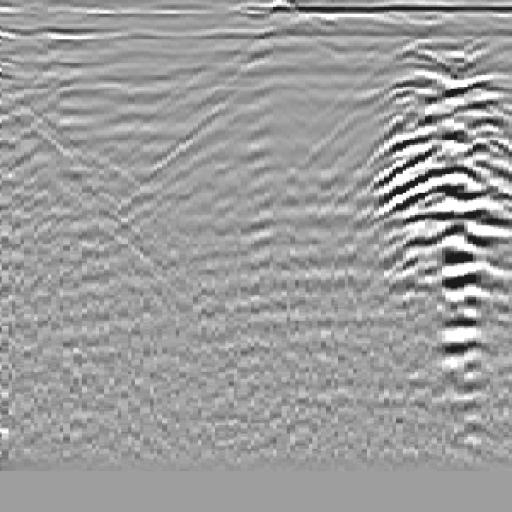metalic: (338, 17, 512, 402)
